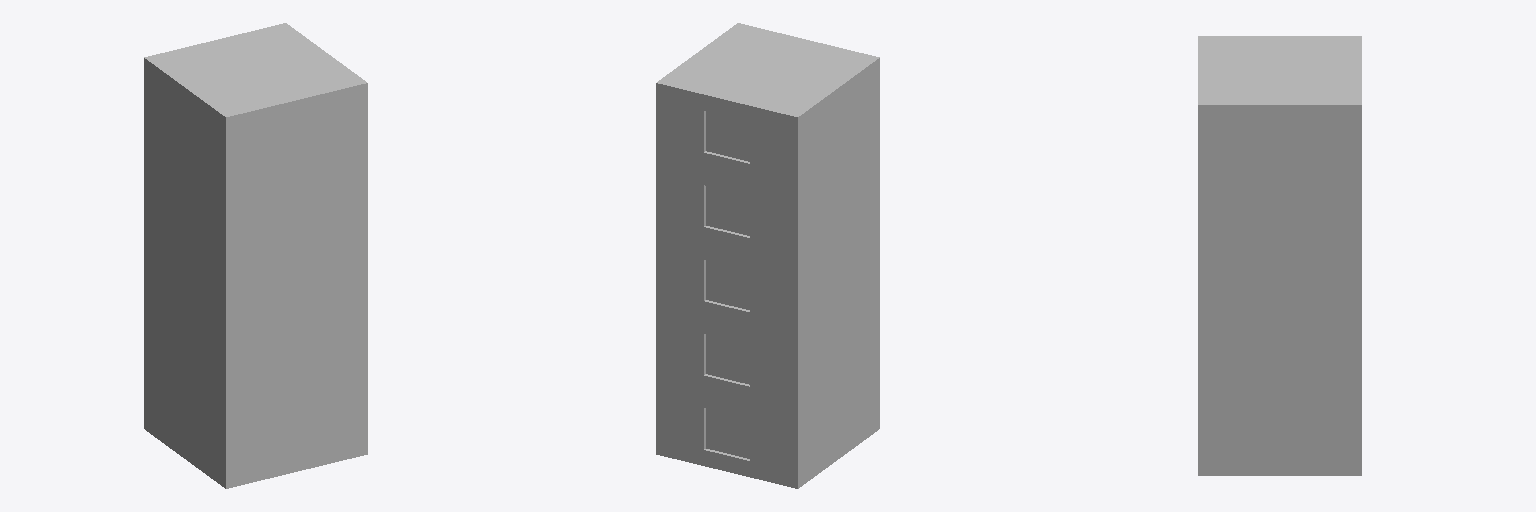
The model's file is Building1.obj.
3 renders of one model, left to right at view 1: azimuth 30°, elevation 25°; view 2: azimuth 150°, elevation 25°; view 3: azimuth 270°, elevation 25°, orthographic.
Parts seen in each view (by area): view 1: Building_1_Plane.003; view 2: Building_1_Plane.003; view 3: Building_1_Plane.003.
Boxes of the visible parts, box(x1,y1,x2,y2) form: Building_1_Plane.003: box(144, 23, 367, 488); Building_1_Plane.003: box(656, 23, 879, 488); Building_1_Plane.003: box(1198, 36, 1361, 475).
Size of the model in its own units: 4 by 10 by 4.